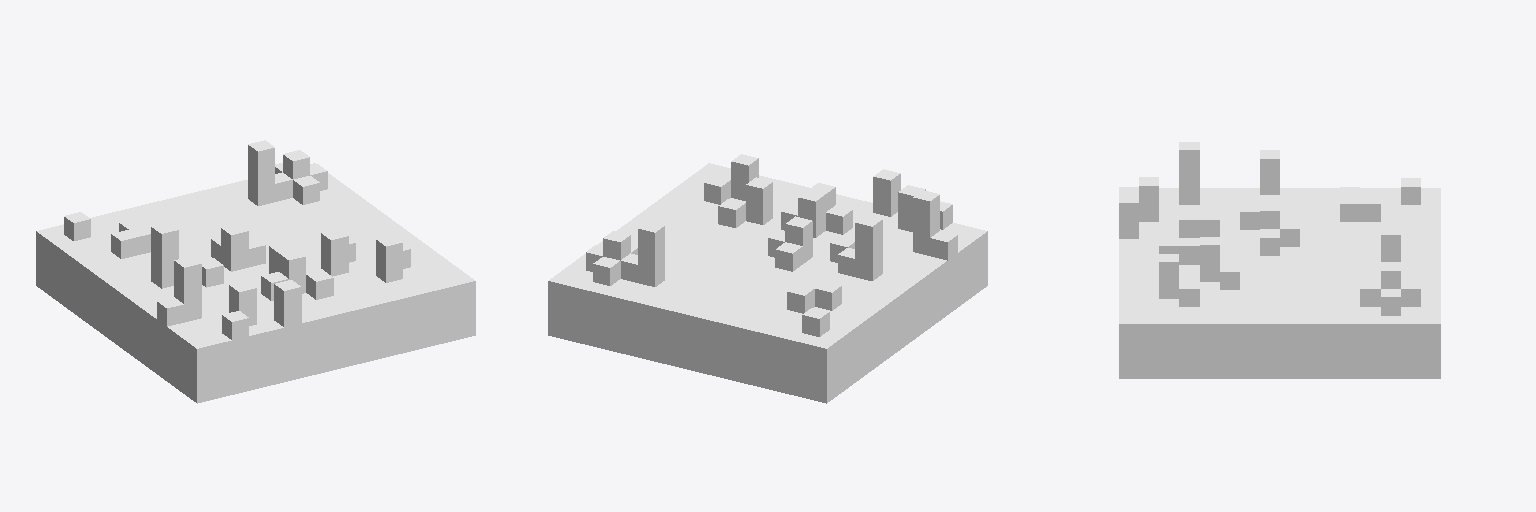
Rendered from traincorner.obj.
3 renders of one model, left to right at view 1: azimuth 30°, elevation 25°; view 2: azimuth 150°, elevation 25°; view 3: azimuth 270°, elevation 25°, orthographic.
Visible parts, largest first — view 1: CaveTrainCorner; view 2: CaveTrainCorner; view 3: CaveTrainCorner.
Part boxes in pixels (left/top/right/bottom): CaveTrainCorner: left=36, top=140, right=475, bottom=403; CaveTrainCorner: left=548, top=154, right=987, bottom=403; CaveTrainCorner: left=1119, top=142, right=1440, bottom=378.
Bounding box in the file's own units: 16 × 6 × 16.